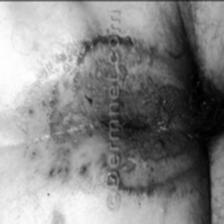Toxin: (141, 156, 189, 210), (75, 29, 107, 66)
